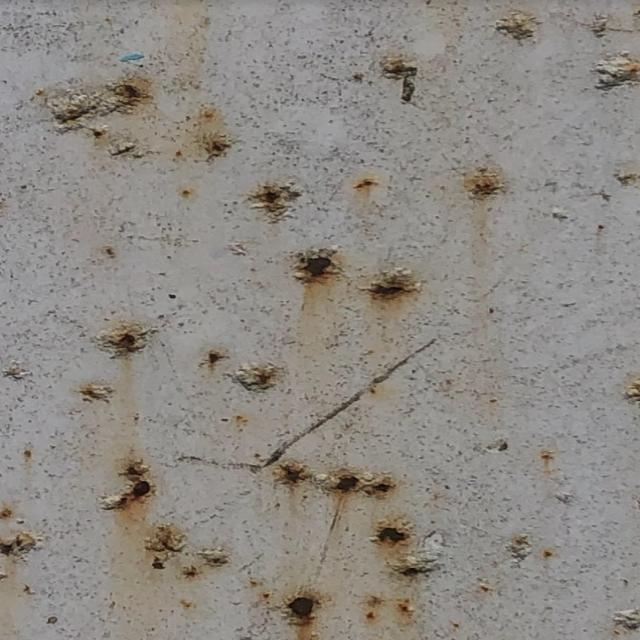Corrosion: (279, 462, 398, 500), (47, 81, 147, 126), (103, 460, 152, 508), (146, 526, 183, 570), (183, 550, 228, 582), (101, 325, 147, 353), (281, 593, 320, 626), (386, 62, 420, 98), (258, 184, 294, 217), (596, 54, 640, 80), (239, 366, 283, 392), (297, 253, 337, 280), (378, 517, 411, 548), (0, 531, 34, 560), (374, 272, 410, 298), (390, 558, 437, 577), (501, 14, 536, 39), (507, 535, 530, 566), (207, 134, 232, 156), (476, 173, 498, 197), (362, 599, 384, 622), (614, 610, 640, 629), (353, 176, 380, 191), (4, 361, 25, 379), (617, 171, 640, 187), (113, 142, 139, 156), (86, 385, 110, 400), (395, 599, 414, 616), (203, 351, 224, 366), (630, 377, 640, 406), (593, 17, 609, 34), (477, 577, 490, 594), (542, 547, 558, 560), (0, 503, 12, 520), (88, 128, 106, 138), (18, 451, 38, 459), (540, 452, 554, 461), (183, 186, 192, 196)
